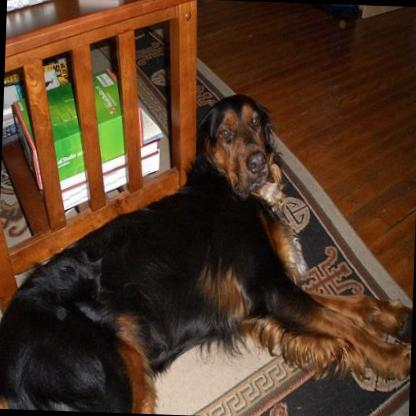Gordon_setter: (0, 85, 416, 416)
